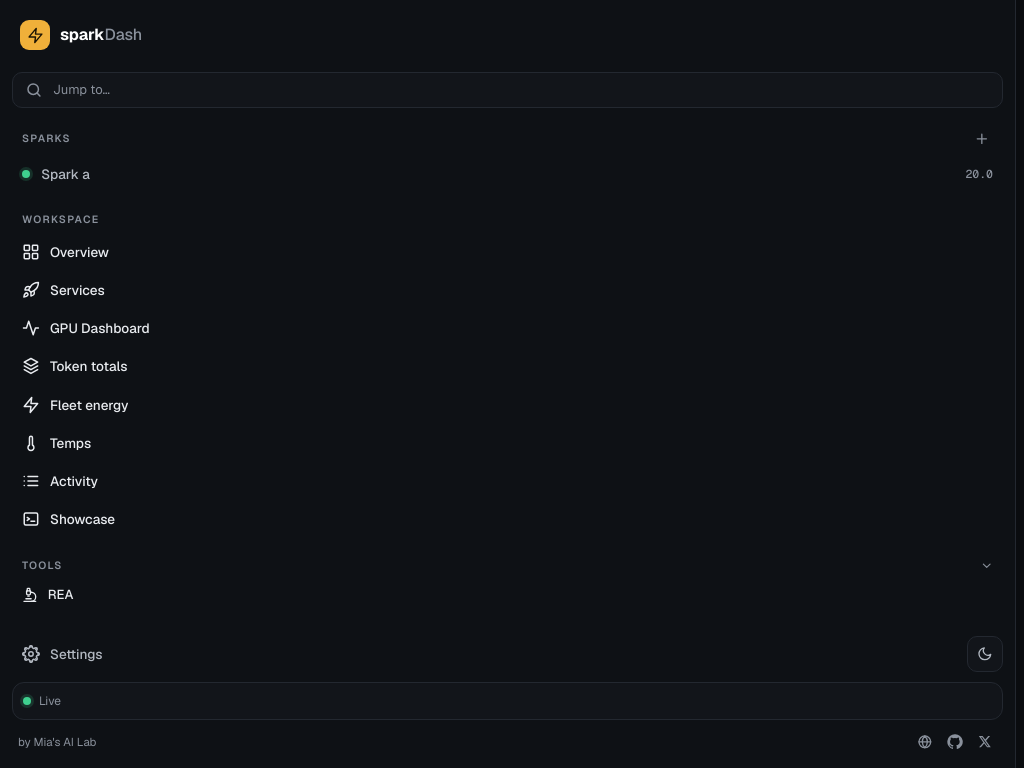
Scenario: AppSidebar Tools section › is open by default, remembers a collapse, and the key is sparkdash.sidebar.toolsOpen
This screenshot has width=1024, height=768.
Click the button with class "rail-label--toggle" at point(42, 564), box x1=12 y1=558 x2=1003 y2=579
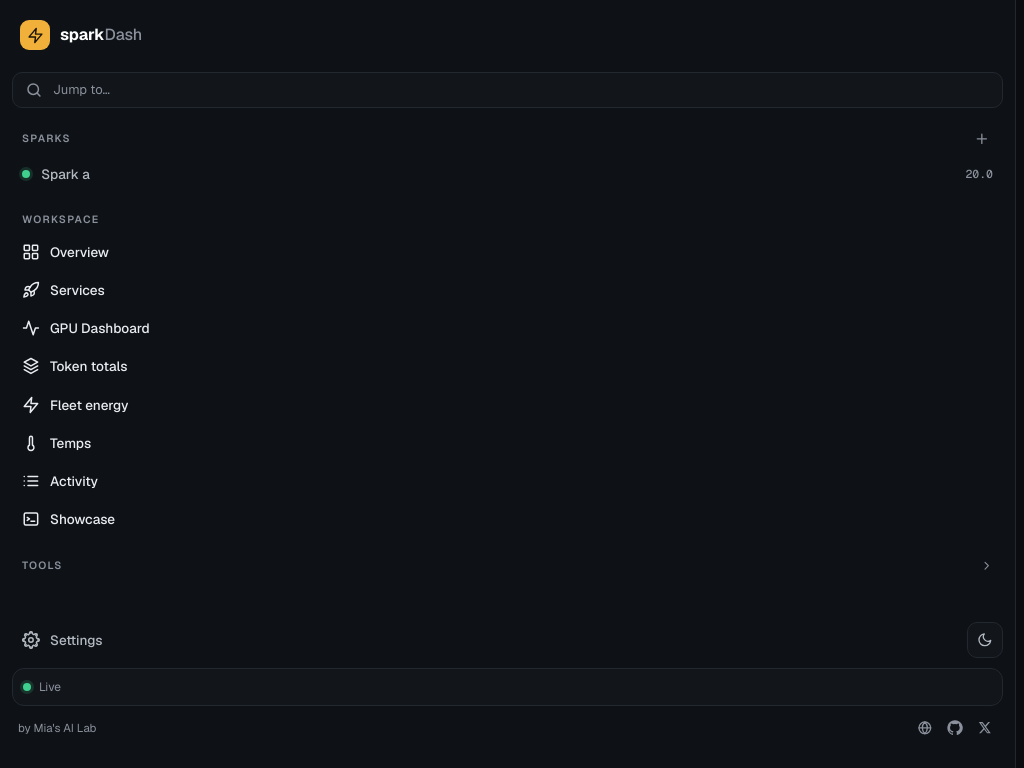
Expected: the button with class "rail-label--toggle" is collapsed, x1=12 y1=558 x2=1003 y2=579
